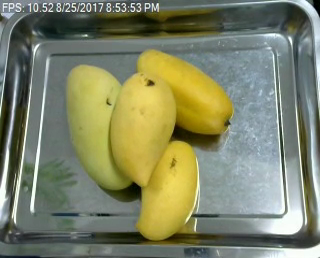Mango: (66, 61, 135, 192), (136, 47, 233, 138), (107, 71, 179, 188), (137, 138, 200, 240)
